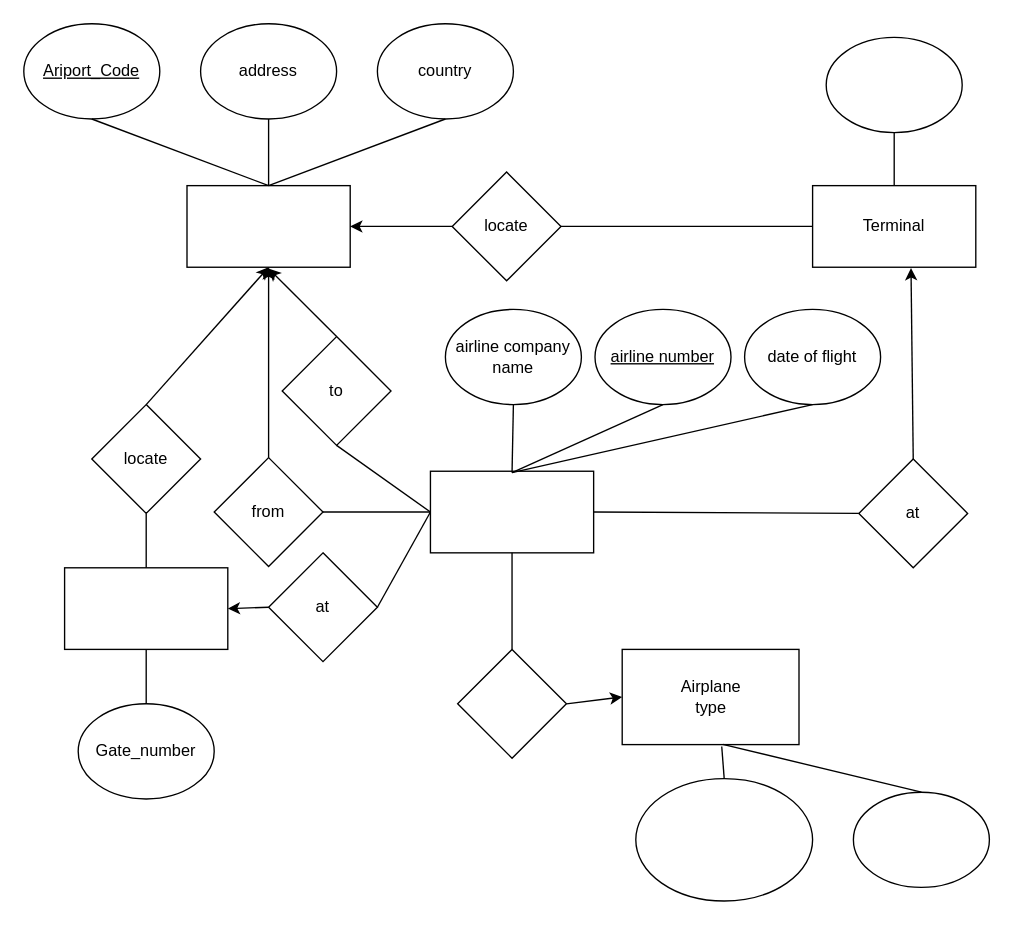
Some shapes in this 1013 by 925 pixel diagram are drawn without their labels. Each missing label, with the centre of its shape:
Airplane_type_name: (723,839)
Airport: (268,225)
Flight: (511,511)
Gate: (145,607)
have: (511,703)
size: (920,839)
Terminal_ID: (893,84)
